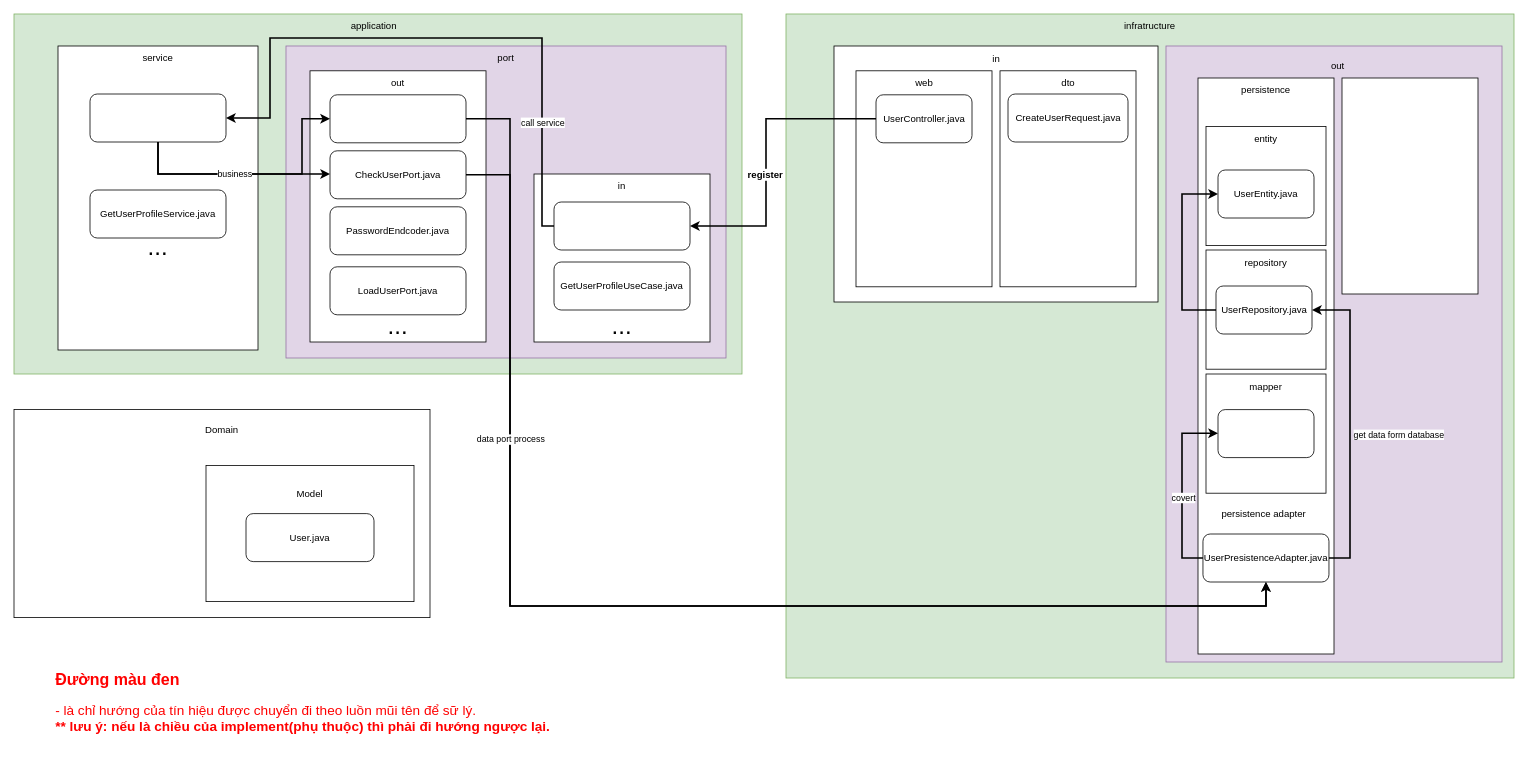
This 1528x774 diagram has some shape labels left out. The centre of each missing label's shape, as x and y in pixels:
"config, minio" goes at (1409,185).
"CreateUserService.java" goes at (157,117).
"CreateUserUseCase.java" goes at (621,225).
"SaveUserPort.java" goes at (397,118).
"UserMapper.java User(md) <-> entity" goes at (1265,433).
